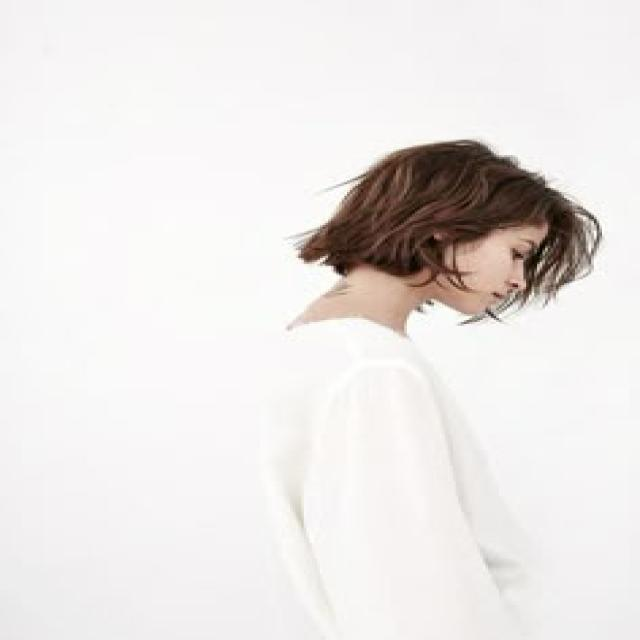9_cabeza_baja: (289, 139, 595, 331)
